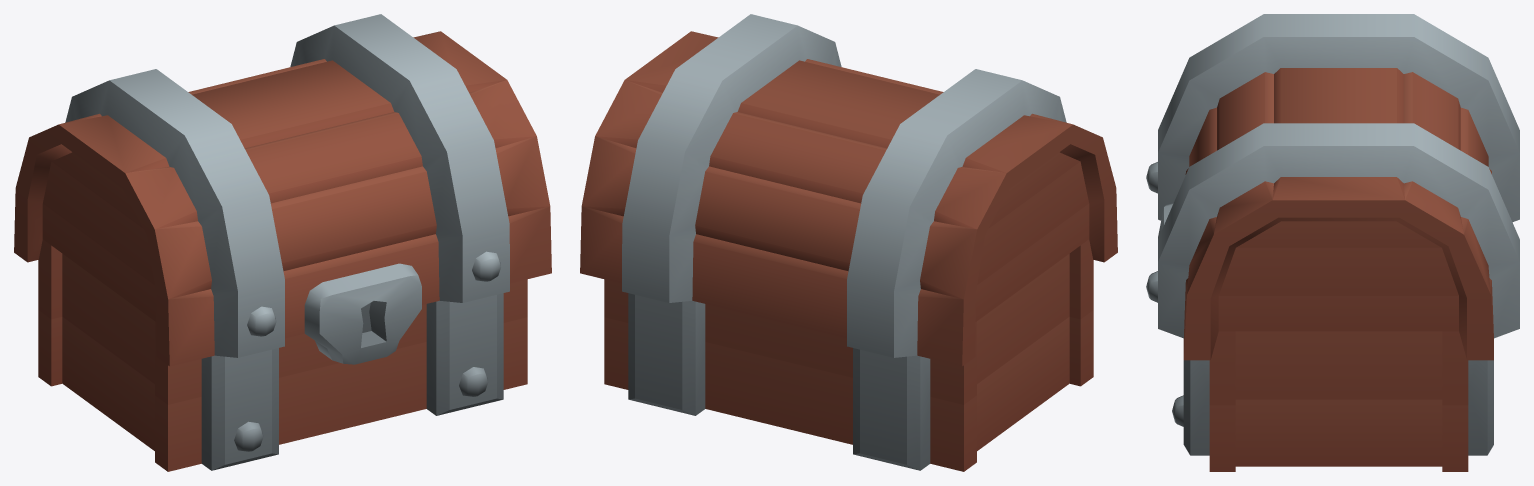
Rendered from chest_gold.fbx.
3 renders of one model, left to right at view 1: azimuth 30°, elevation 25°; view 2: azimuth 150°, elevation 25°; view 3: azimuth 270°, elevation 25°, orthographic.
Parts seen in each view (by area): view 1: chest_gold; view 2: chest_gold; view 3: chest_gold.
Part boxes in pixels (x1,y1,x2,y2): chest_gold: (14,14,551,471); chest_gold: (580,14,1117,471); chest_gold: (1146,14,1519,471).
Size of the model in its own units: 1.7 by 1.3 by 1.45.
